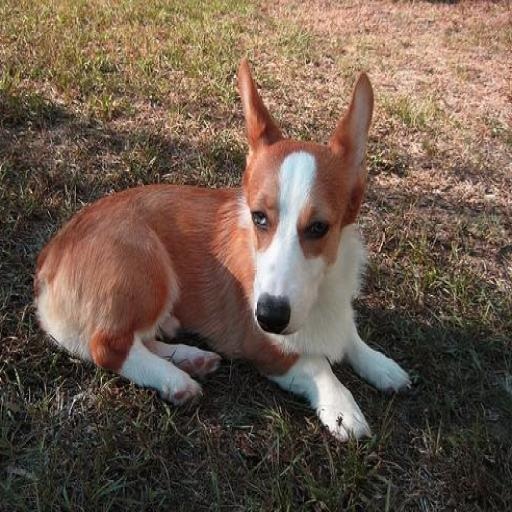dog_face: (240, 64, 368, 323)
